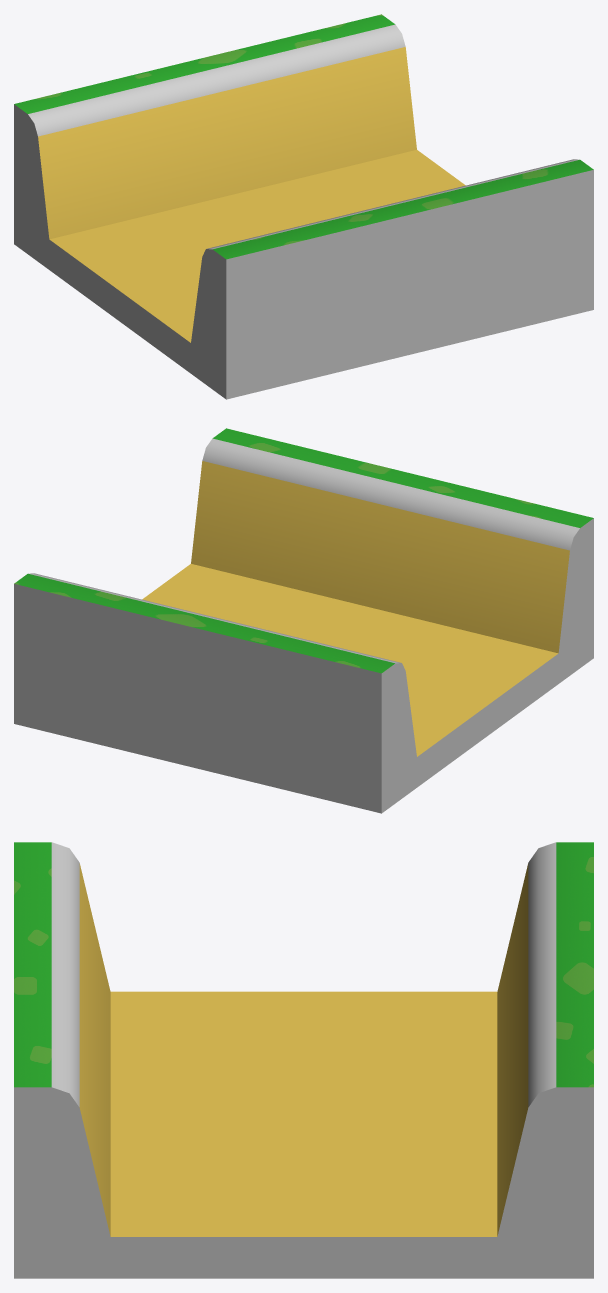
Rendered from RiverTile_1_1.fbx.
3 renders of one model, top to bottom at view 1: azimuth 30°, elevation 25°; view 2: azimuth 150°, elevation 25°; view 3: azimuth 270°, elevation 25°, orthographic. The views are drawn at different scales.
Visible parts, largest first — view 1: RiverTile_1_1; view 2: RiverTile_1_1; view 3: RiverTile_1_1.
Part boxes in pixels (x1=…): RiverTile_1_1: x1=14, y1=14, x2=593, y2=399; RiverTile_1_1: x1=14, y1=428, x2=593, y2=813; RiverTile_1_1: x1=14, y1=842, x2=593, y2=1278.
Bounding box in the file's own units: 4 × 1.46 × 4.
